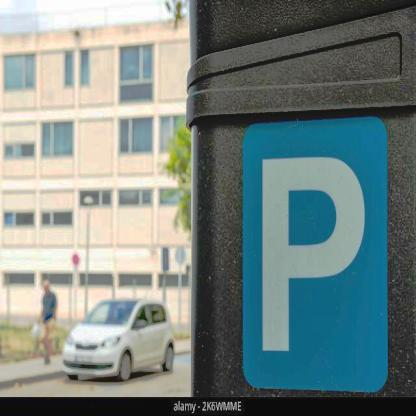Parking: (236, 124, 386, 390)
